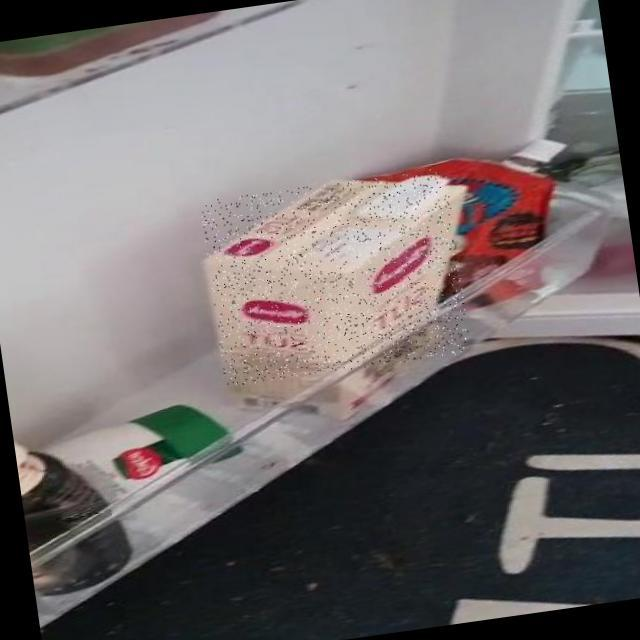milk: (200, 167, 472, 387)
